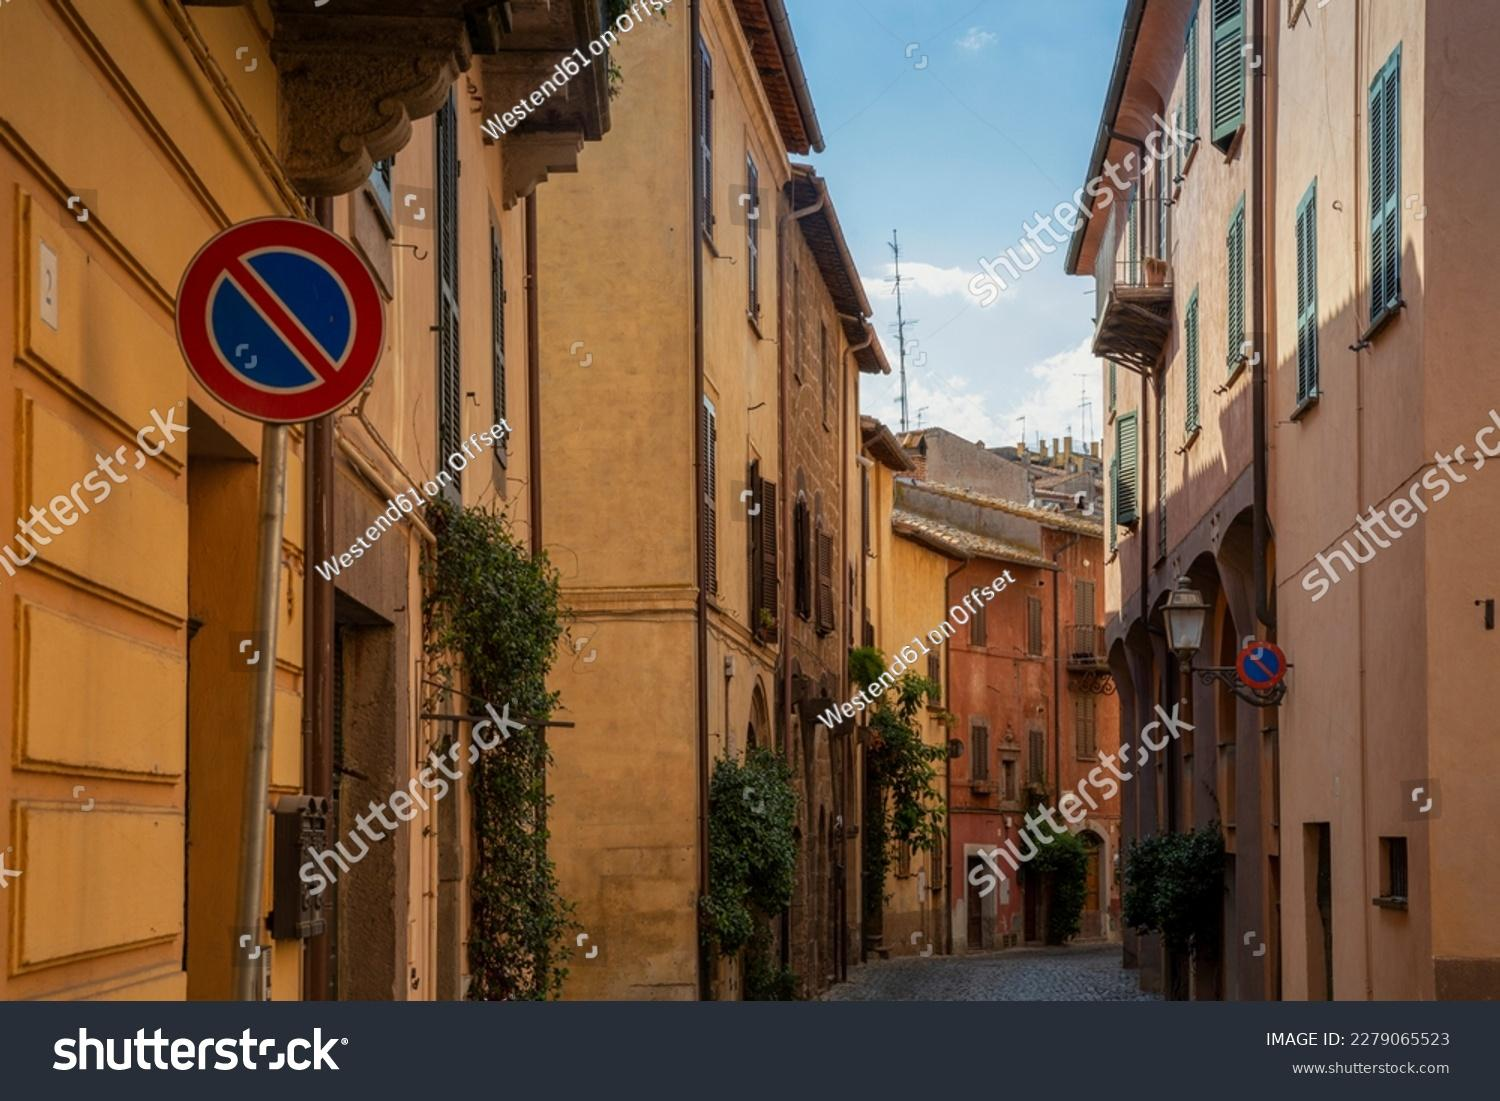No Parking: (165, 185, 402, 419)
